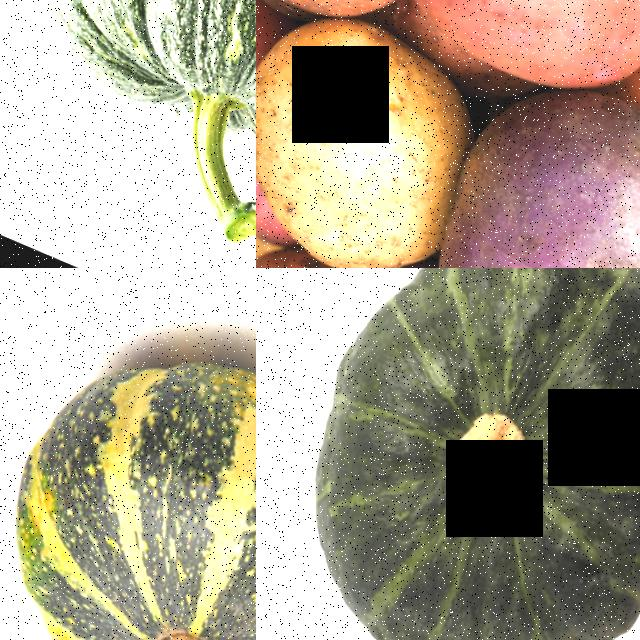potato: (256, 0, 490, 268), (363, 0, 640, 116)
pumpkin: (256, 268, 640, 640), (0, 284, 256, 640), (0, 0, 256, 235)
